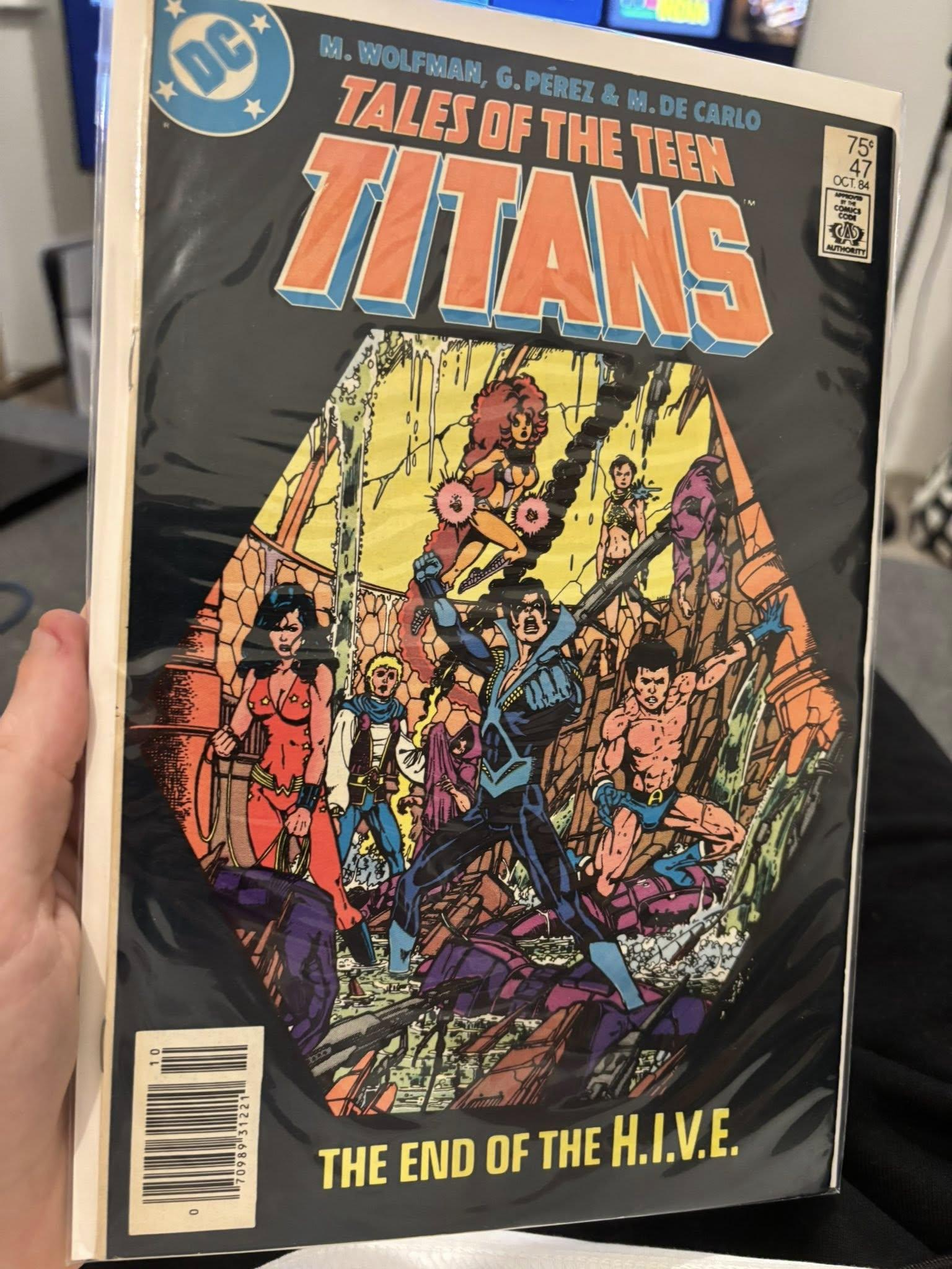comic: (72, 0, 900, 1269)
